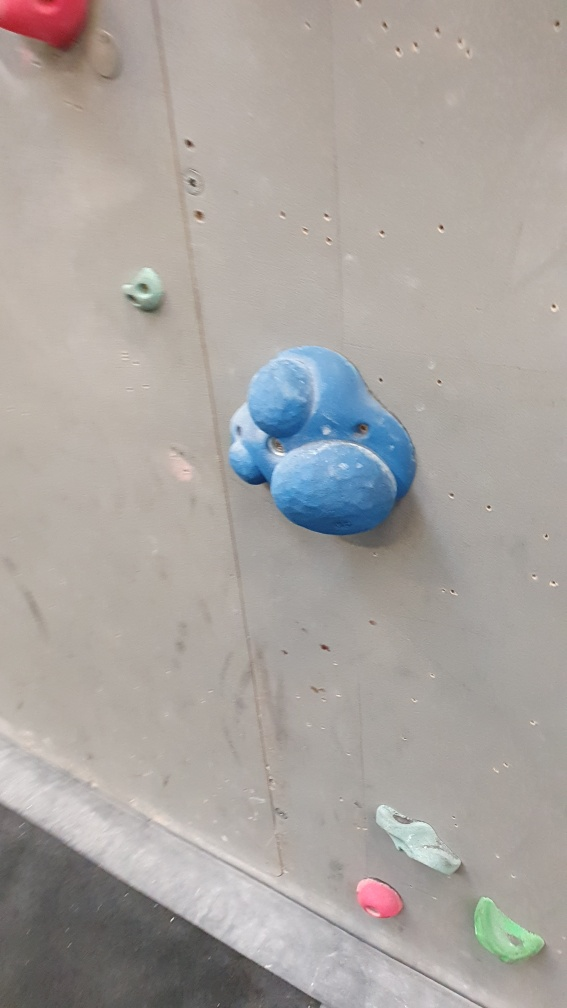Sloper: (231, 348, 420, 537)
